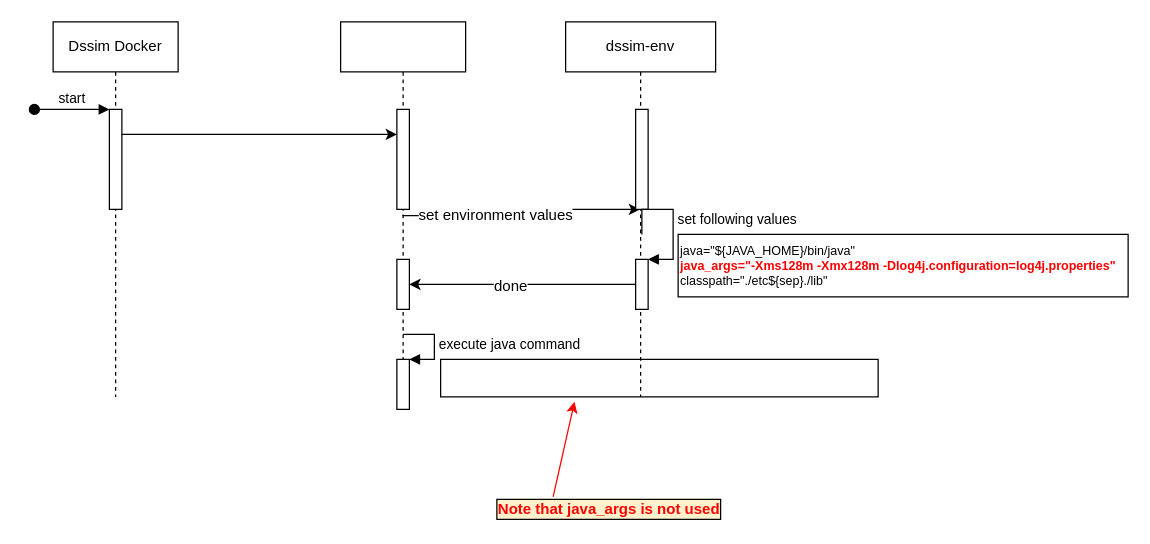
Image size: 1150x544. Some labels were removed from this diagram. Here are the shapes that lost their labels. From the top down, the centre of each, then its label:
point (402, 215): dssim
point (658, 377): exec ${java} -classpath "${classpath}" ${main_class} ${cmdline_args}
